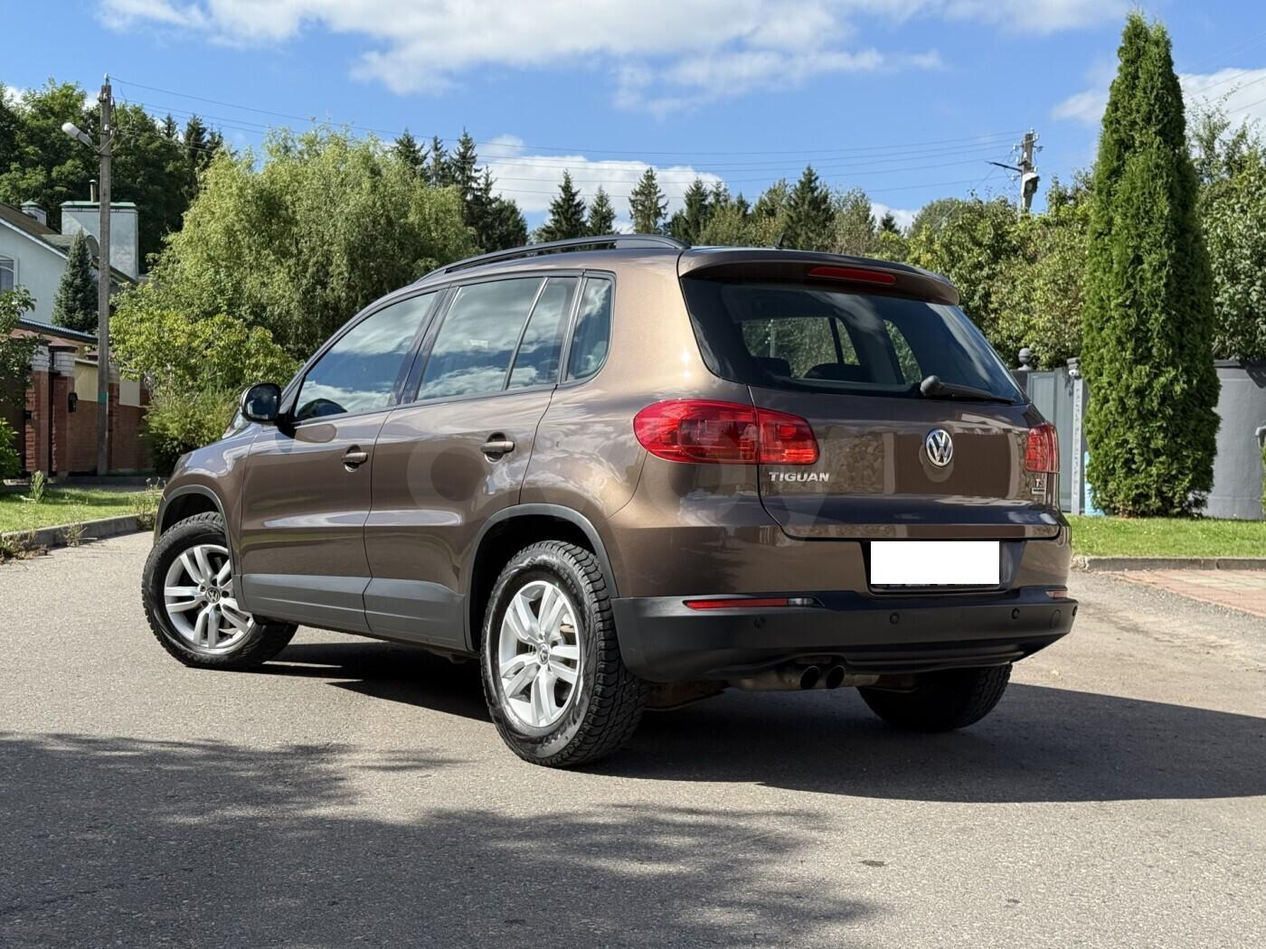Tiguan_2011-2018: (141, 235, 1071, 777)
